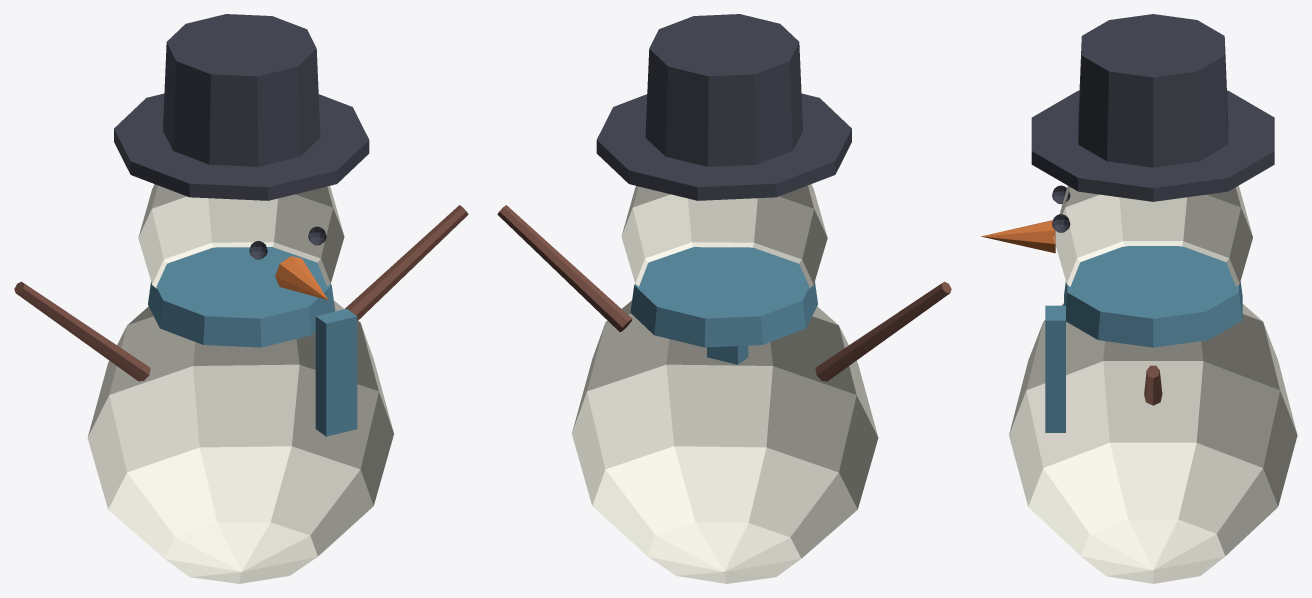
File: turning-seasons-snowman-ed66bce3__2155.glb
The picture shows the model from 3 angles, left to right: view 1: azimuth 30°, elevation 25°; view 2: azimuth 150°, elevation 25°; view 3: azimuth 270°, elevation 25°; orthographic projection.
Visible parts, largest first — view 1: snowman; view 2: snowman; view 3: snowman.
Part boxes in pixels (<box>): snowman: <box>14,14,468,583</box>; snowman: <box>497,14,951,583</box>; snowman: <box>980,14,1297,583</box>.
Size of the model in its own units: 1.38 by 1.54 by 0.8441.
